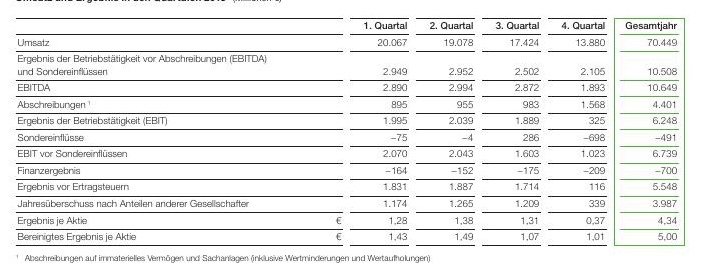table: (0, 0, 701, 263)
